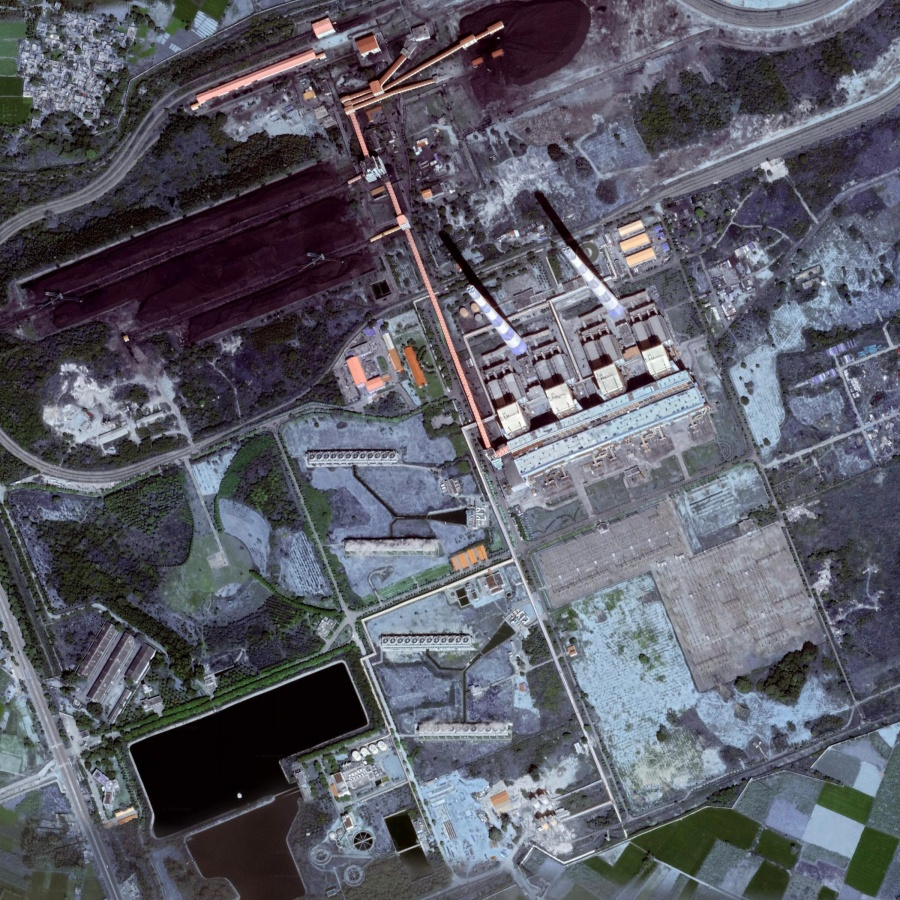PowerPlant: (109, 653, 379, 881), (428, 183, 665, 388)
